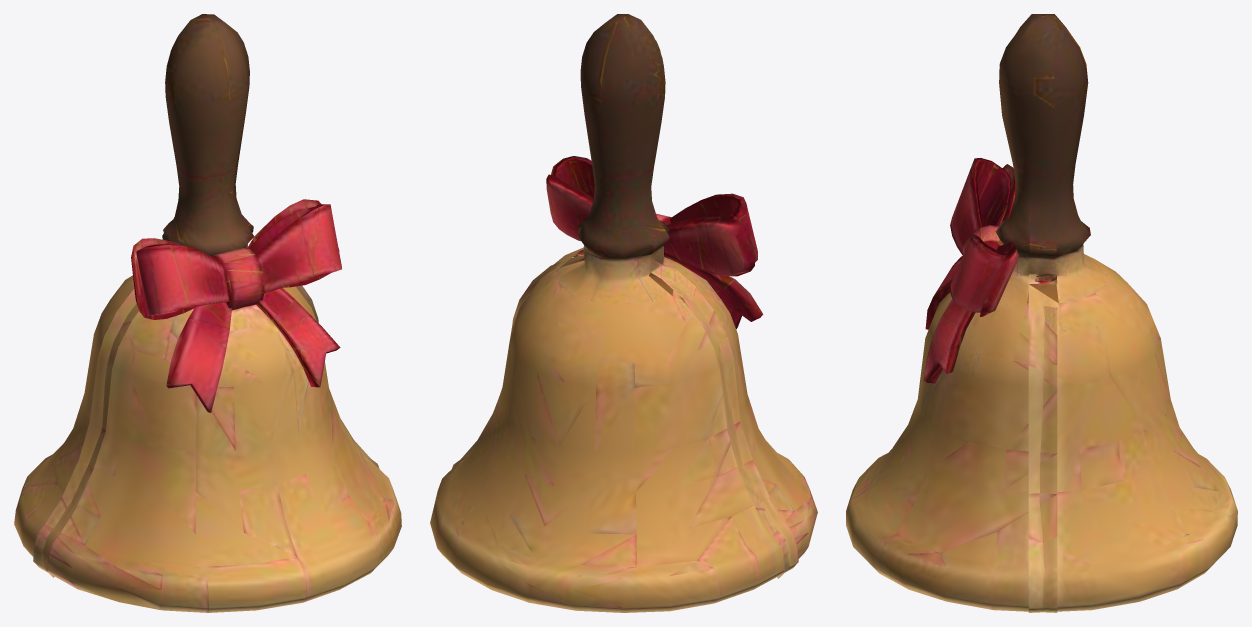
The model's file is item-luckyBell.glb.
The picture shows the model from 3 angles, left to right: view 1: azimuth 30°, elevation 25°; view 2: azimuth 150°, elevation 25°; view 3: azimuth 270°, elevation 25°; orthographic projection.
Size of the model in its own units: 0.6284 by 0.9526 by 0.6328.
1 material, 1 textured.
